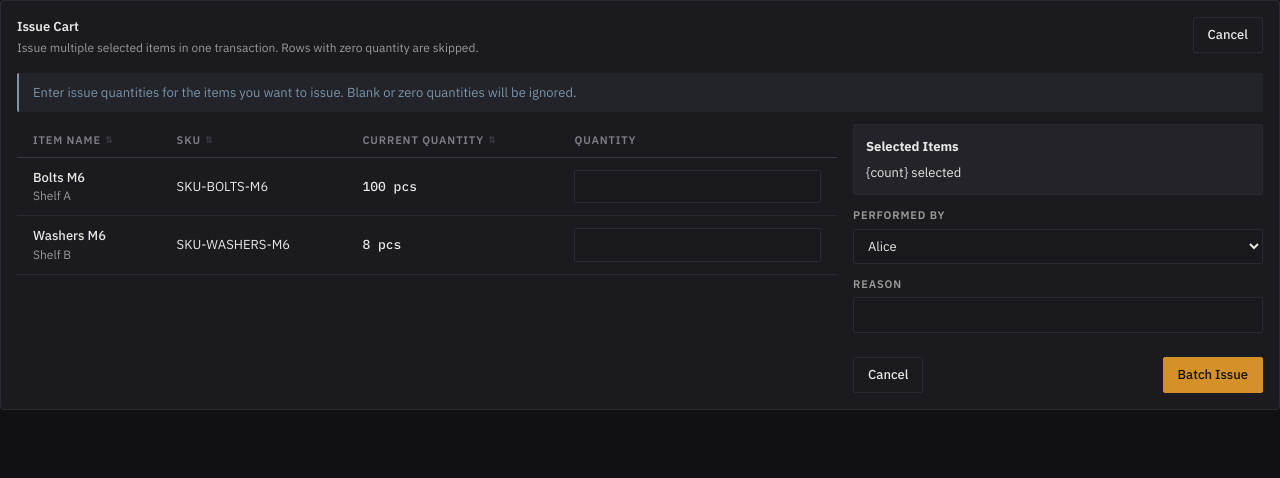
Test: BatchIssuePanel › shows a validation error instead of submitting when no quantities are entered
Click the button with test id "batch-submit". click: (1213, 375)
box: [1162,356,1263,393]
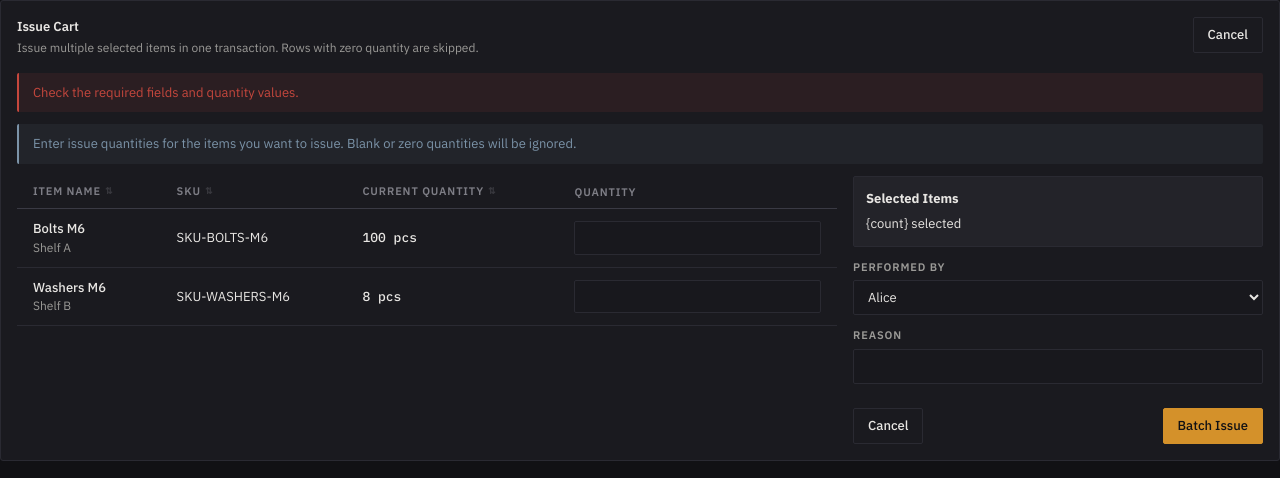
Now the text "Check the required fields and quantity values." is shown, box [17,72,1263,112]
